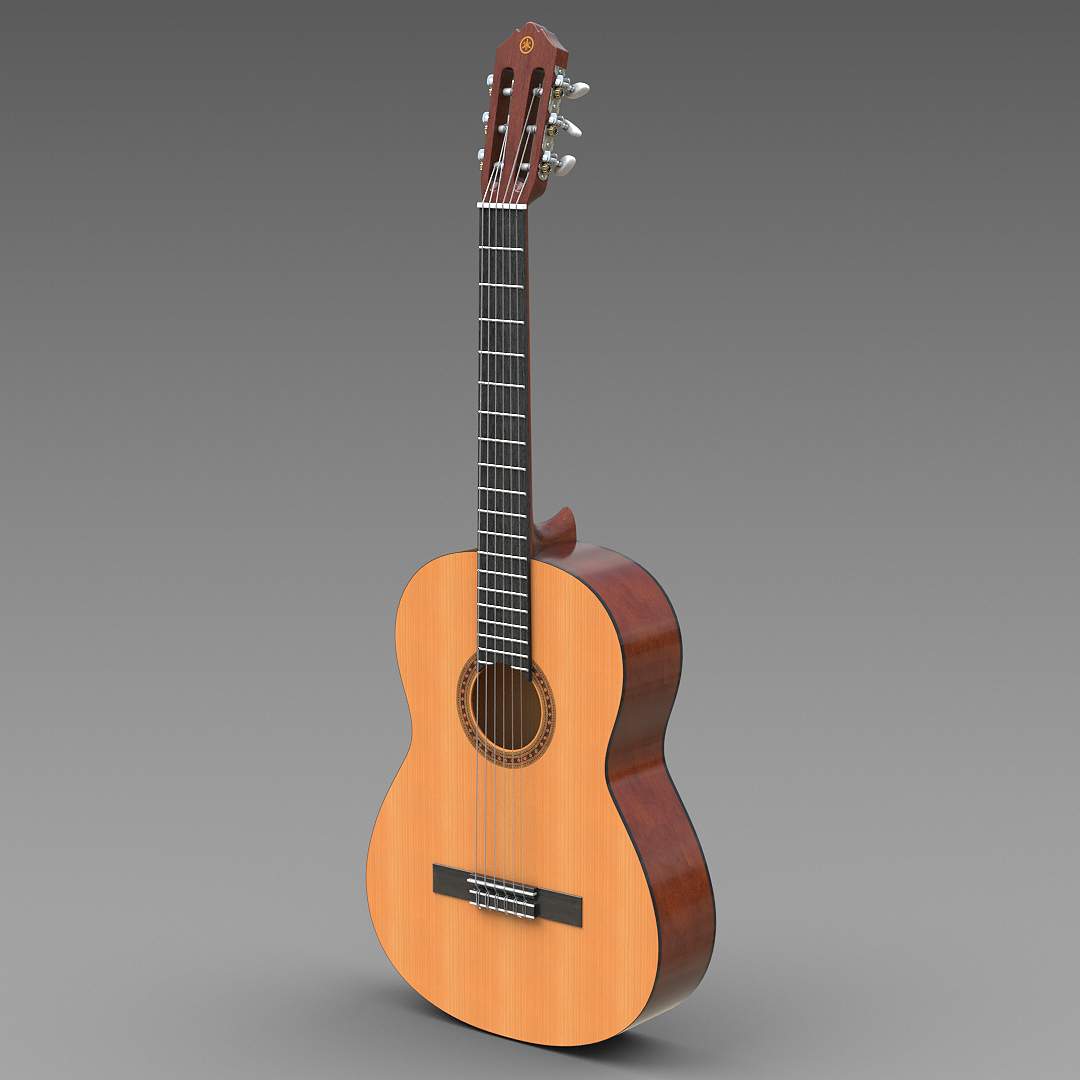0 classic: (365, 19, 722, 1049)
